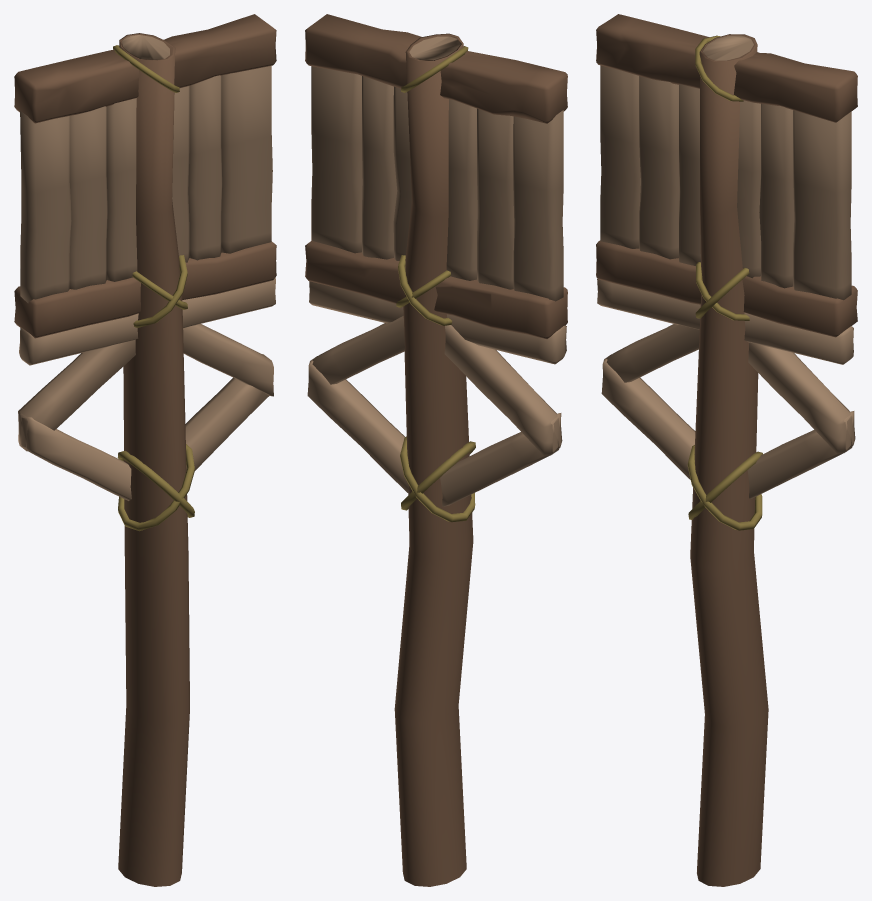
The model's file is waterwall.fbx.
The picture shows the model from 3 angles, left to right: view 1: azimuth 30°, elevation 25°; view 2: azimuth 150°, elevation 25°; view 3: azimuth 330°, elevation 25°; orthographic projection.
Visible parts, largest first — view 1: Cube; view 2: Cube; view 3: Cube.
Boxes of the visible parts, x1,y1,x2,y2 form: Cube: (14,14,276,886); Cube: (305,14,567,886); Cube: (596,14,857,886).
Bounding box in the file's own units: 1.01 × 3.23 × 0.3669.
